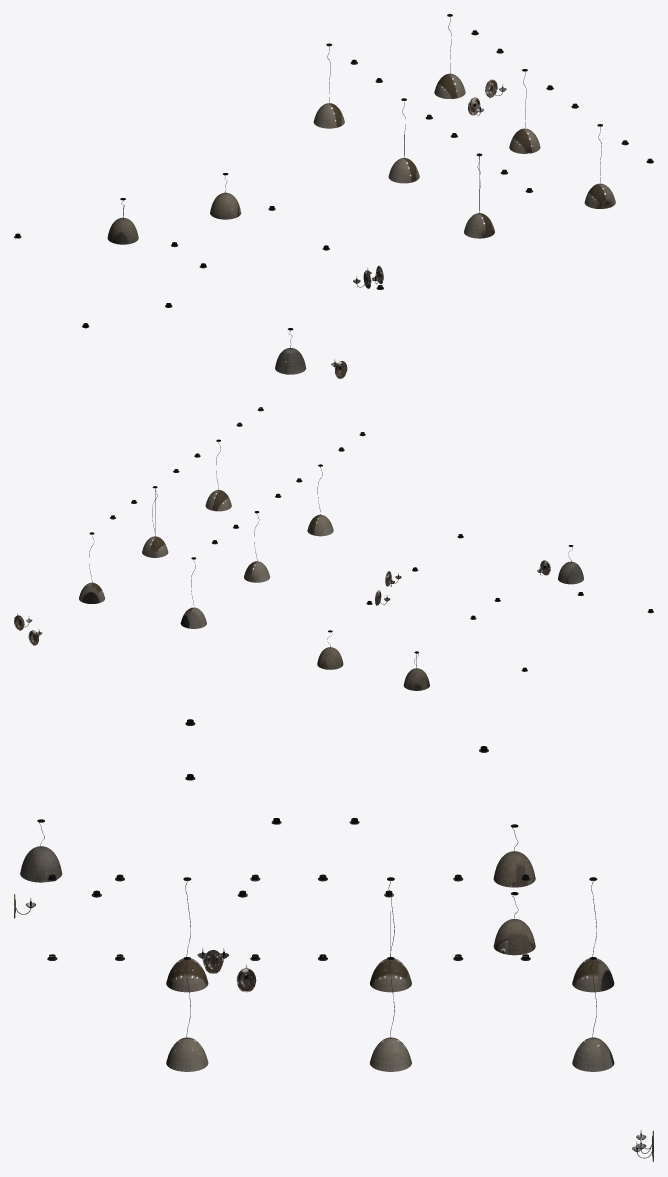
Rendered from hotelhamilton_12.obj.
3 renders of one model, top to bottom at view 1: azimuth 30°, elevation 25°; view 2: azimuth 150°, elevation 25°; view 3: azimuth 270°, elevation 25°, orthographic. The views are drawn at different scales.
Size of the model in its own units: 12.86 by 2.71 by 8.93.
